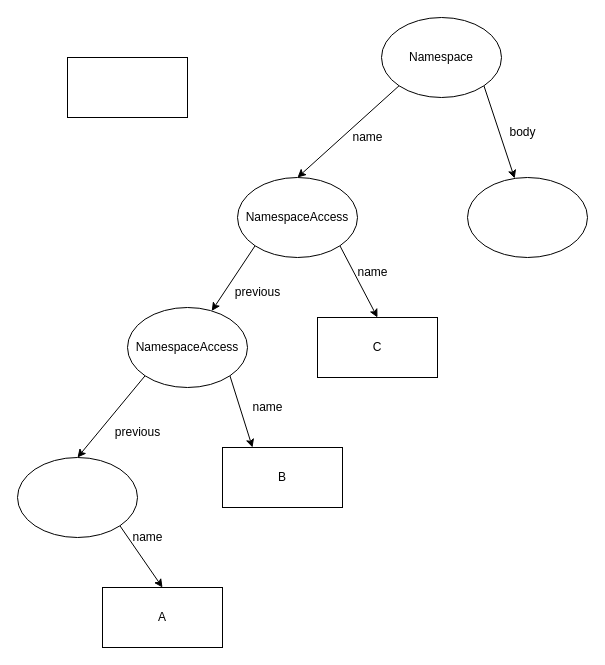
This 605x665 diagram has some shape labels left out. The shapes that lost their labels are listed below. From the top down, each one's box as (x1, y1, x2, y2) in pixels, then its label:
(66, 56, 188, 118): Input namespace: A::B::C
(466, 176, 588, 258): ExprList
(16, 456, 138, 538): Local
